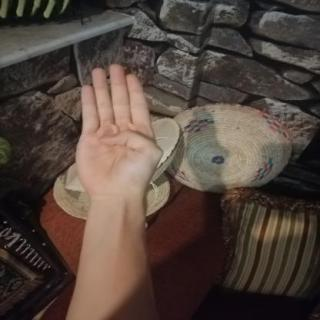KAAF: (64, 57, 173, 208)
